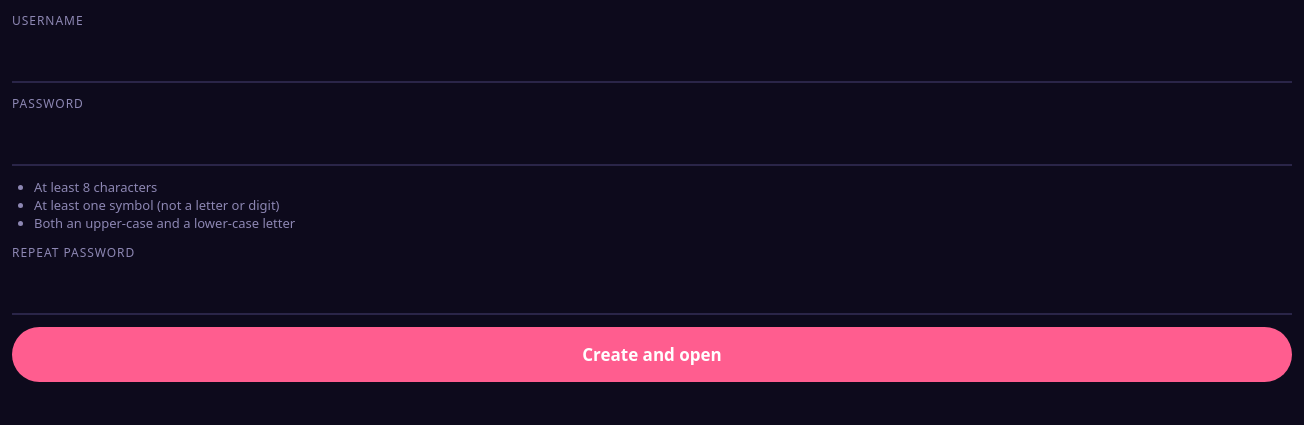
Test: SetupForm password policy › rejects a password with no symbol
The width and height of the screenshot is (1304, 425).
Type "anna" into the field labelled "Username" at (652, 58), box [12,33,1292,83]
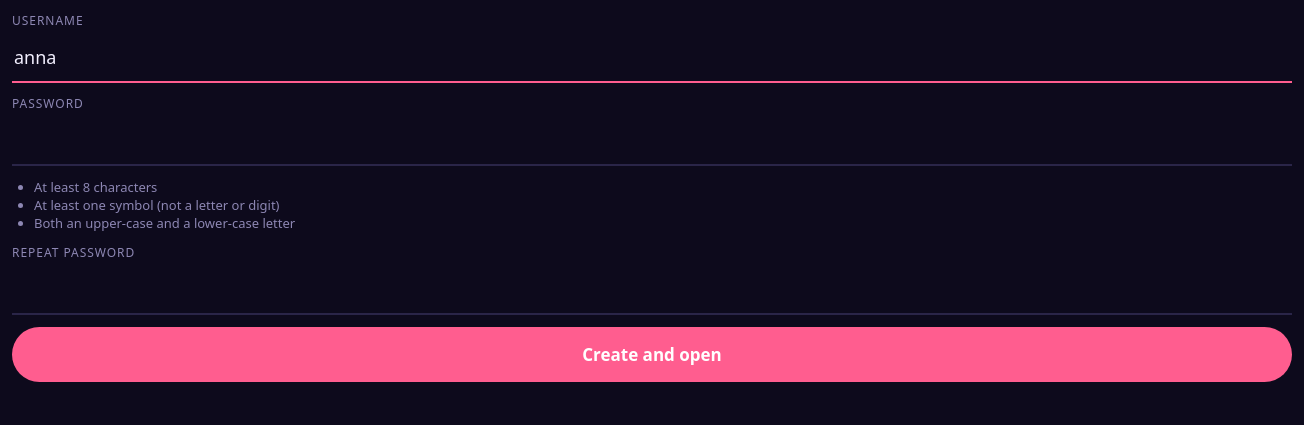
Type "Abcdefg1" into the password field labelled "Password" at (652, 141), box [12,116,1292,166]
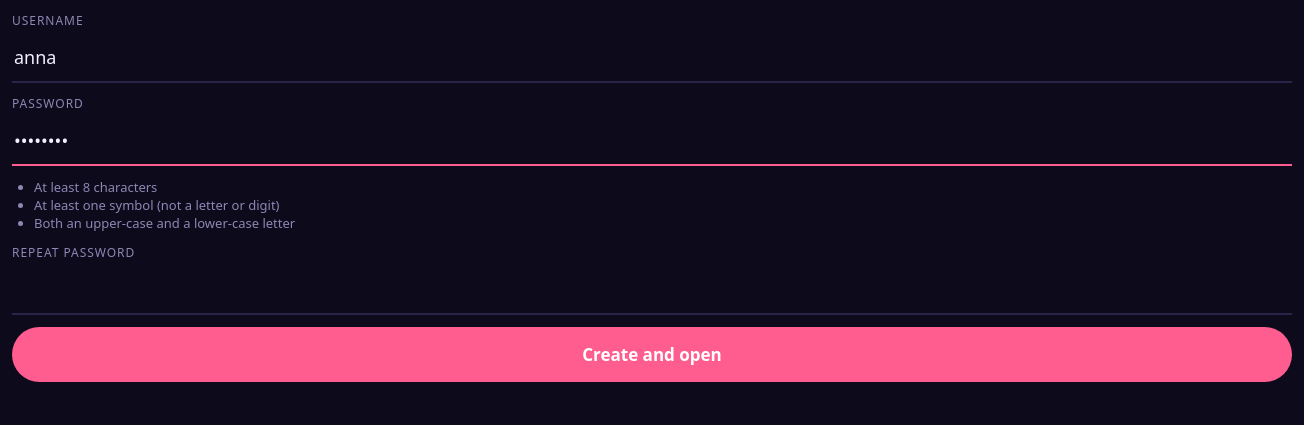
Type "Abcdefg1" into the password field labelled "Repeat password" at (652, 290), box [12,265,1292,315]
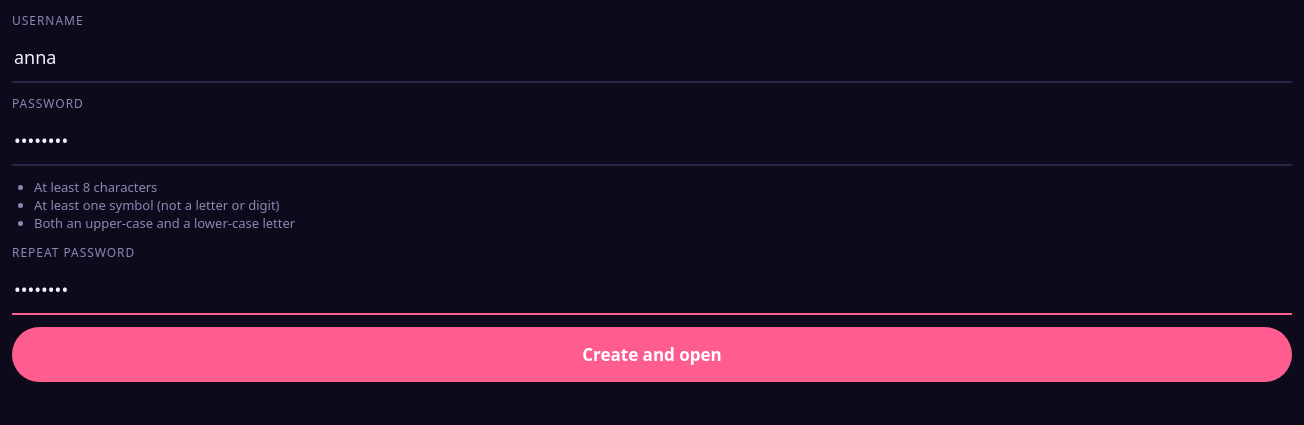
Click the button "Create and open" at (652, 354), box [12,327,1292,382]
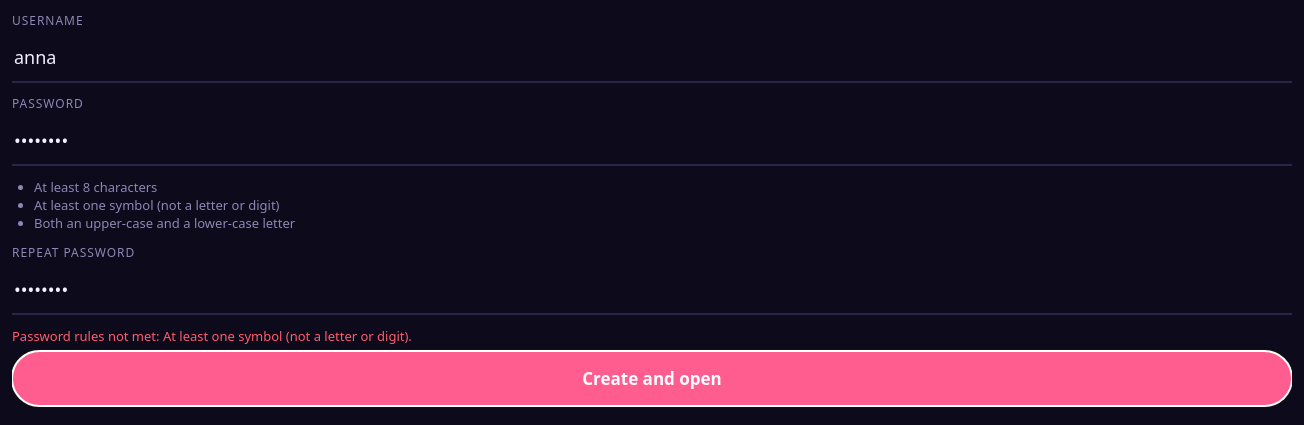
Check: the message does not show "8 characters", box [12,327,412,345]
Check: the message shows "At least one symbol", box [12,327,412,345]
